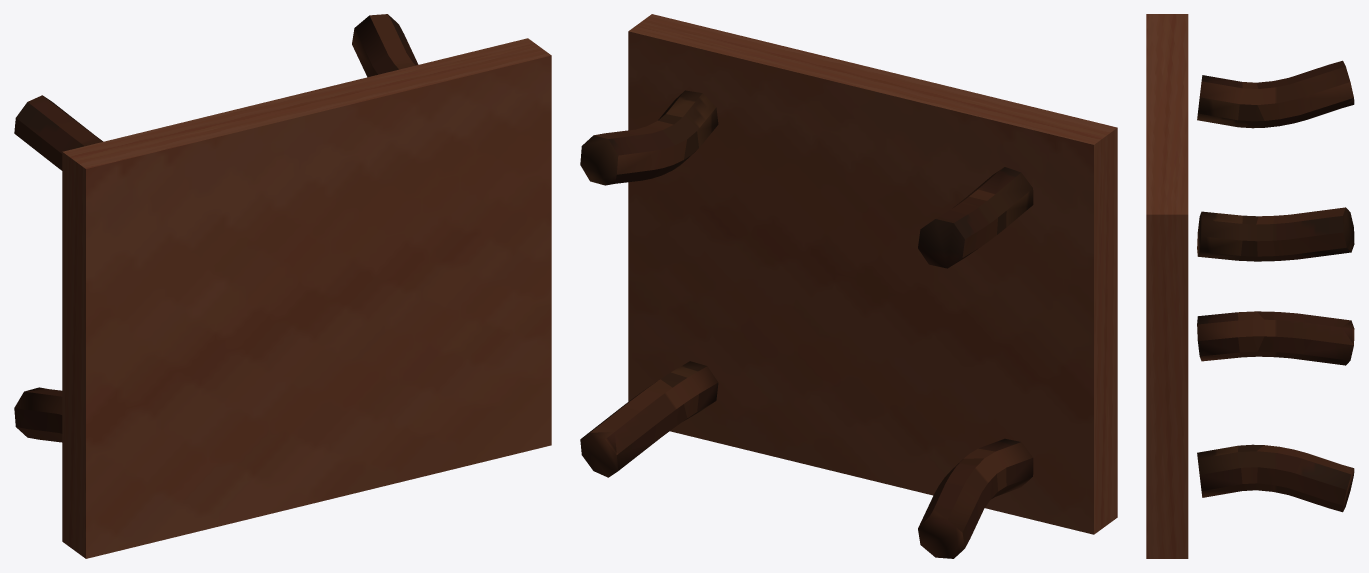
Rendered from pz_table_tables_low_01_fancy.obj.
3 renders of one model, left to right at view 1: azimuth 30°, elevation 25°; view 2: azimuth 150°, elevation 25°; view 3: azimuth 270°, elevation 25°, orthographic. The views are drawn at different scales.
Size of the model in its own units: 0.625 by 0.5 by 0.2738.
Materials: 1 (1 with a texture image).
